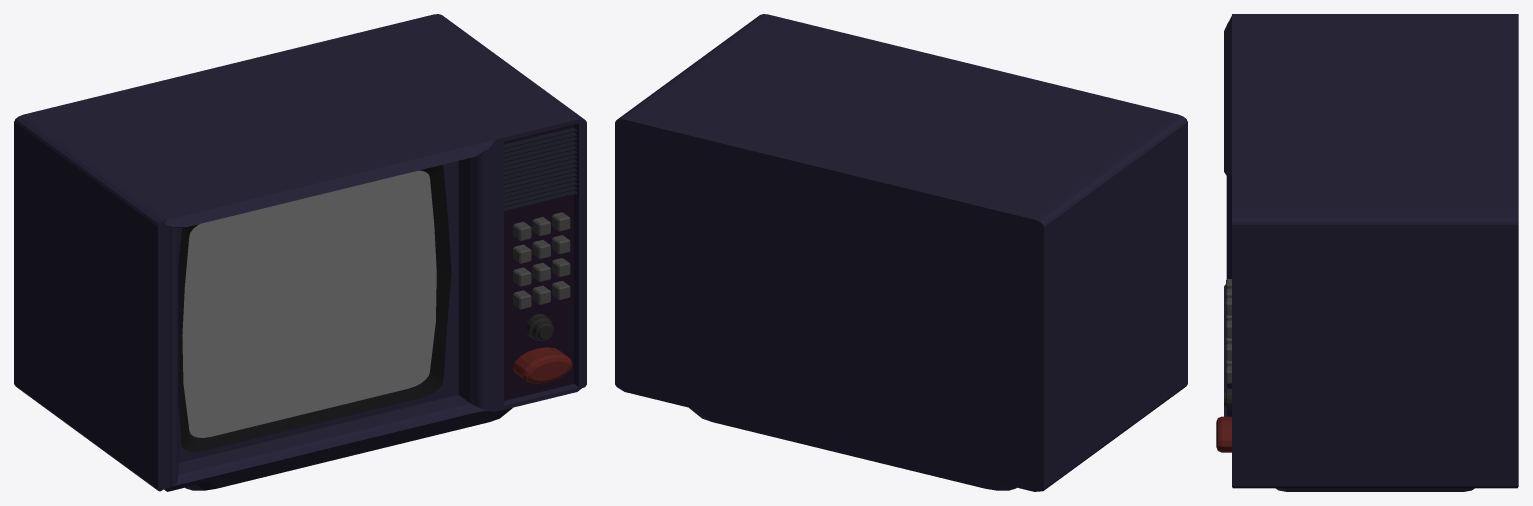
The picture shows the model from 3 angles, left to right: view 1: azimuth 30°, elevation 25°; view 2: azimuth 150°, elevation 25°; view 3: azimuth 270°, elevation 25°; orthographic projection.
Parts seen in each view (by area): view 1: TV, Cube, Boutons, Bouton; view 2: TV; view 3: TV, Boutons, Bouton.
Part boxes in pixels (x1,y1,x2,y2): TV: [14, 14, 586, 491]; Cube: [504, 127, 577, 211]; Boutons: [513, 212, 570, 309]; Bouton: [512, 347, 572, 383]; TV: [615, 14, 1187, 491]; TV: [1224, 14, 1518, 491]; Boutons: [1226, 279, 1231, 383]; Bouton: [1216, 416, 1231, 452].
Bounding box in the file's own units: 4.07 × 2.72 × 2.49.
